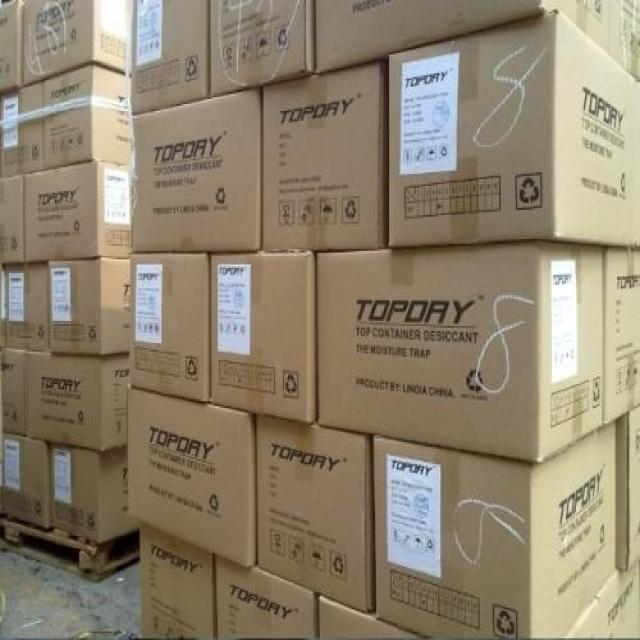box: (314, 241, 604, 466), (387, 9, 640, 247), (374, 420, 616, 638), (315, 0, 640, 80), (261, 60, 387, 253), (256, 413, 374, 614), (127, 386, 256, 568), (129, 85, 262, 254), (209, 251, 317, 425), (128, 254, 210, 403), (24, 160, 132, 265), (207, 0, 319, 96), (26, 348, 128, 452), (20, 0, 132, 87), (41, 63, 131, 169), (50, 444, 140, 546), (131, 0, 209, 116), (140, 529, 218, 638), (214, 558, 320, 638), (49, 259, 131, 355), (603, 244, 640, 427), (562, 560, 640, 638), (320, 594, 428, 640), (0, 432, 51, 529), (614, 406, 640, 573), (0, 82, 44, 177), (5, 265, 49, 352), (0, 346, 27, 437), (0, 0, 24, 94), (0, 174, 24, 265), (0, 265, 6, 346)
